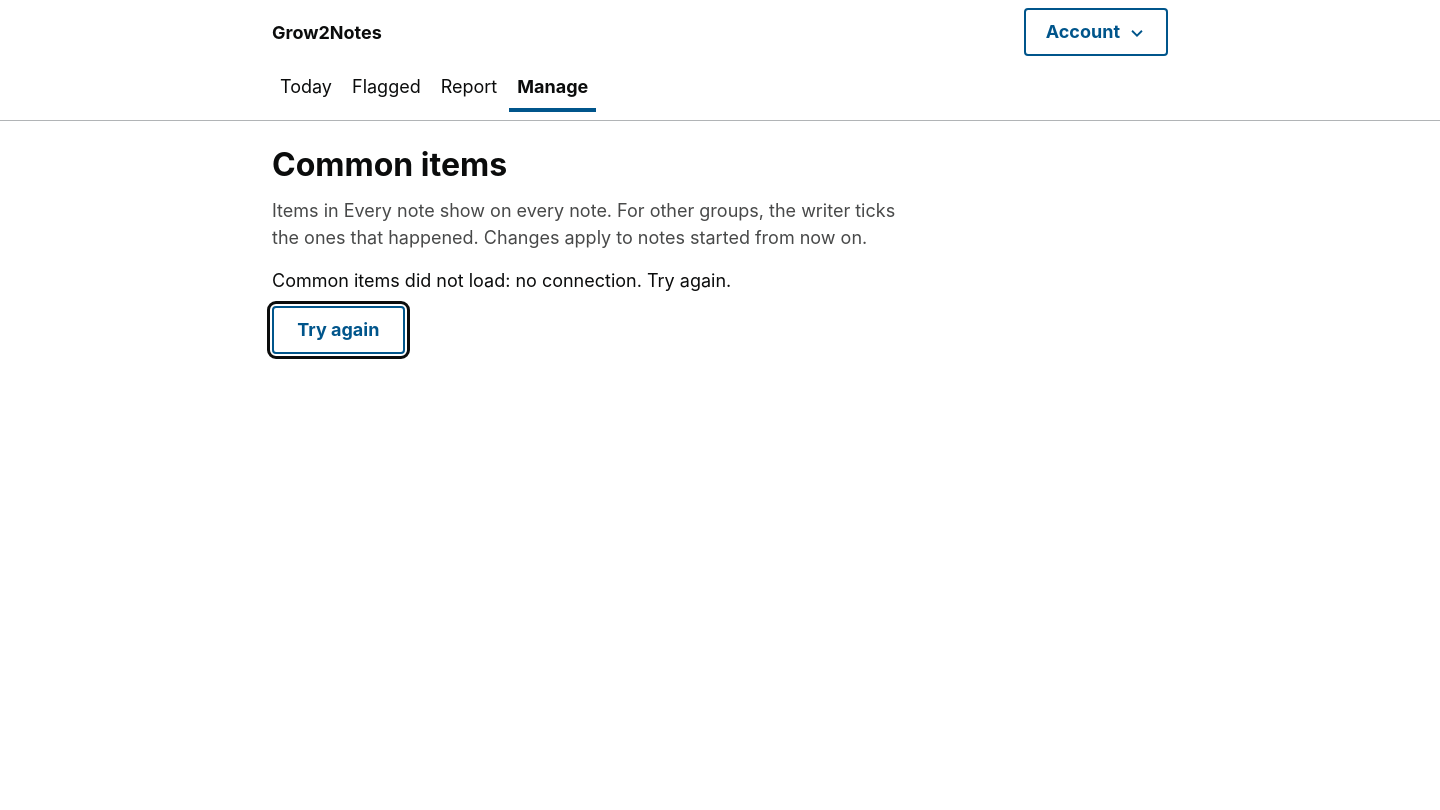
Test case: Common items while the list loads › shows the groups after a Try again that loads, with focus on the <h1>
The image size is (1440, 810).
Click the button "Try again": {"x": 338, "y": 330} [272,306,405,354]
Wait 1 ms
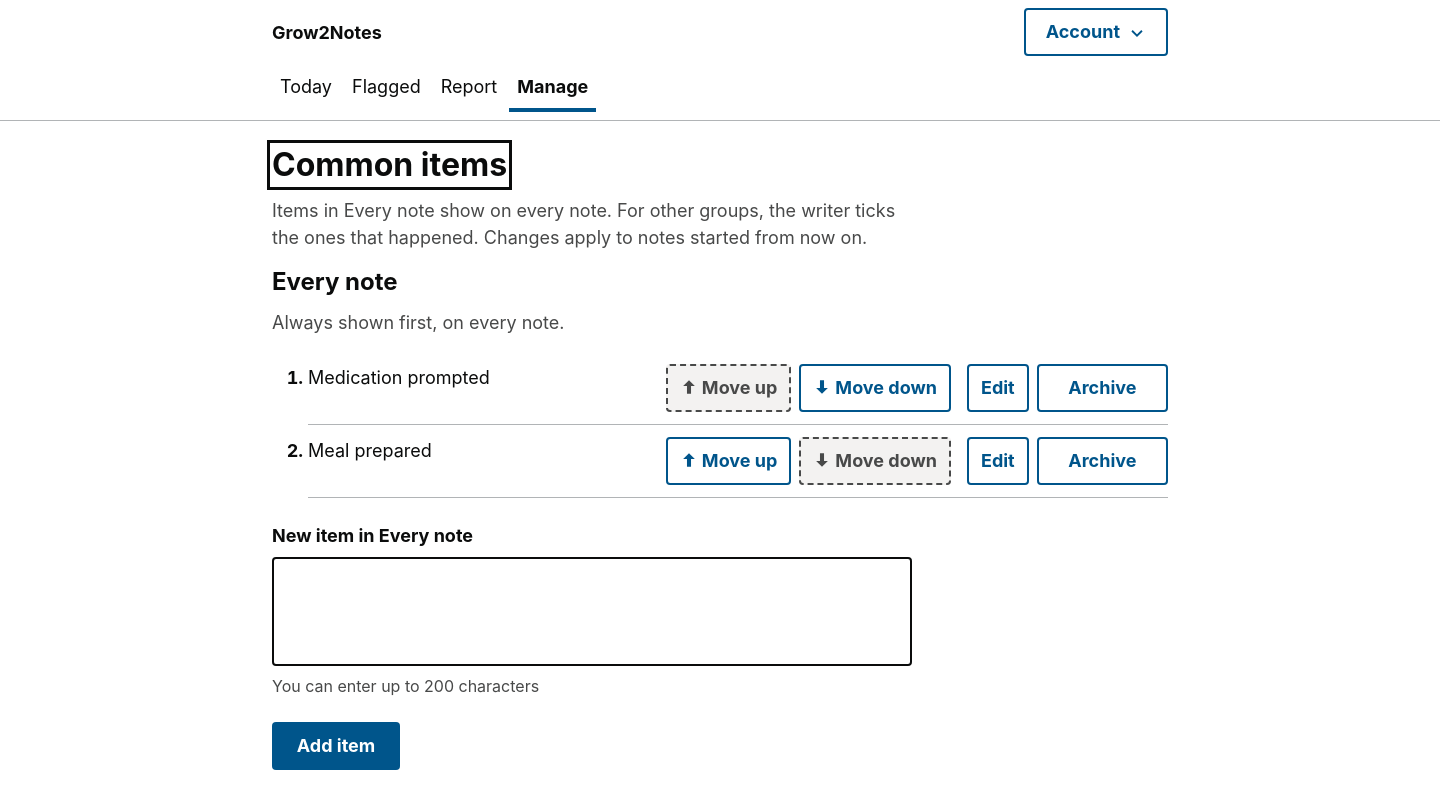
Result: the message "Try again" is gone
